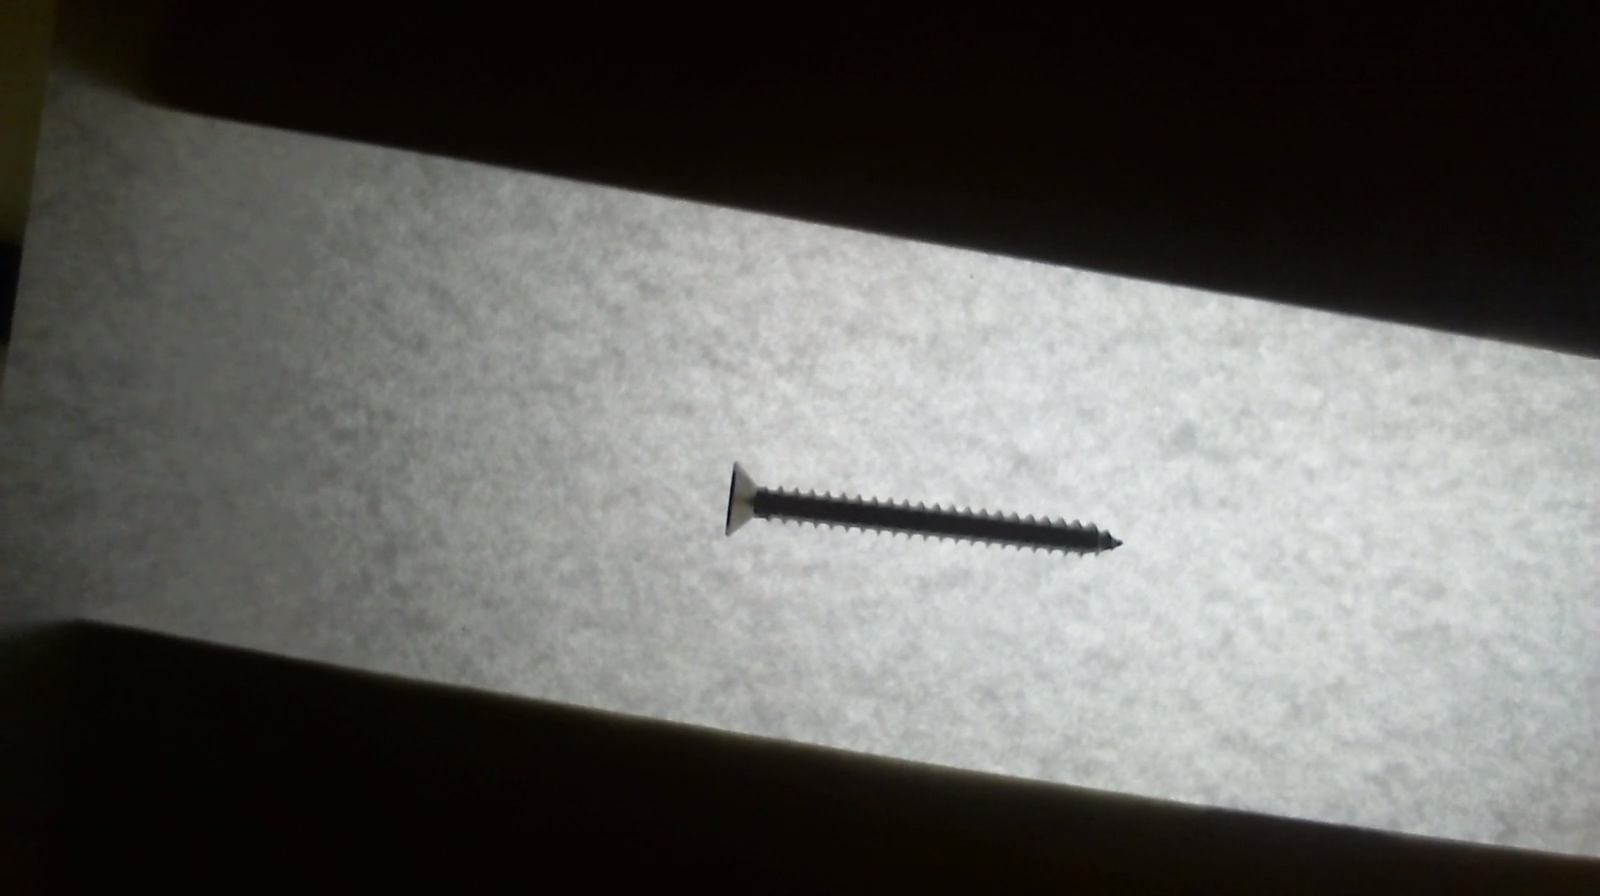S002: (716, 462, 1130, 571)
